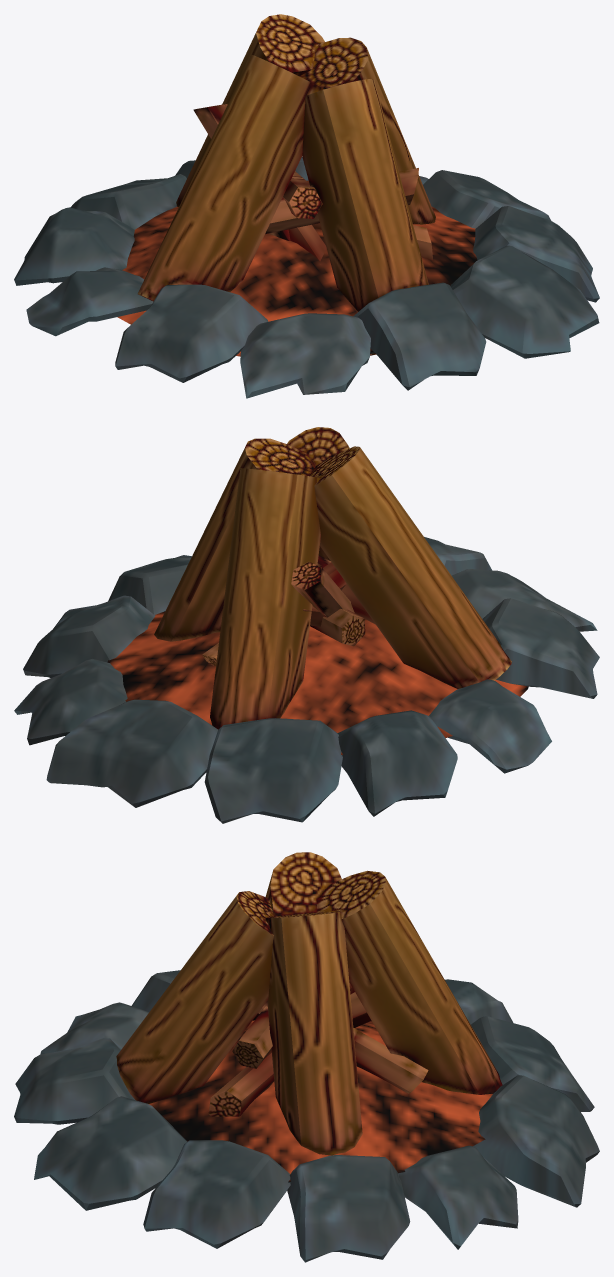
File: bonfire 1.fbx
3 renders of one model, top to bottom at view 1: azimuth 30°, elevation 25°; view 2: azimuth 150°, elevation 25°; view 3: azimuth 270°, elevation 25°, orthographic.
Parts seen in each view (by area): view 1: palo1; view 2: palo1; view 3: palo1.
Boxes of the visible parts, bbox=[...] form: palo1: bbox=[14, 14, 599, 398]; palo1: bbox=[14, 427, 599, 823]; palo1: bbox=[14, 852, 599, 1262].
Size of the model in its own units: 2.84 by 1.46 by 2.84.
